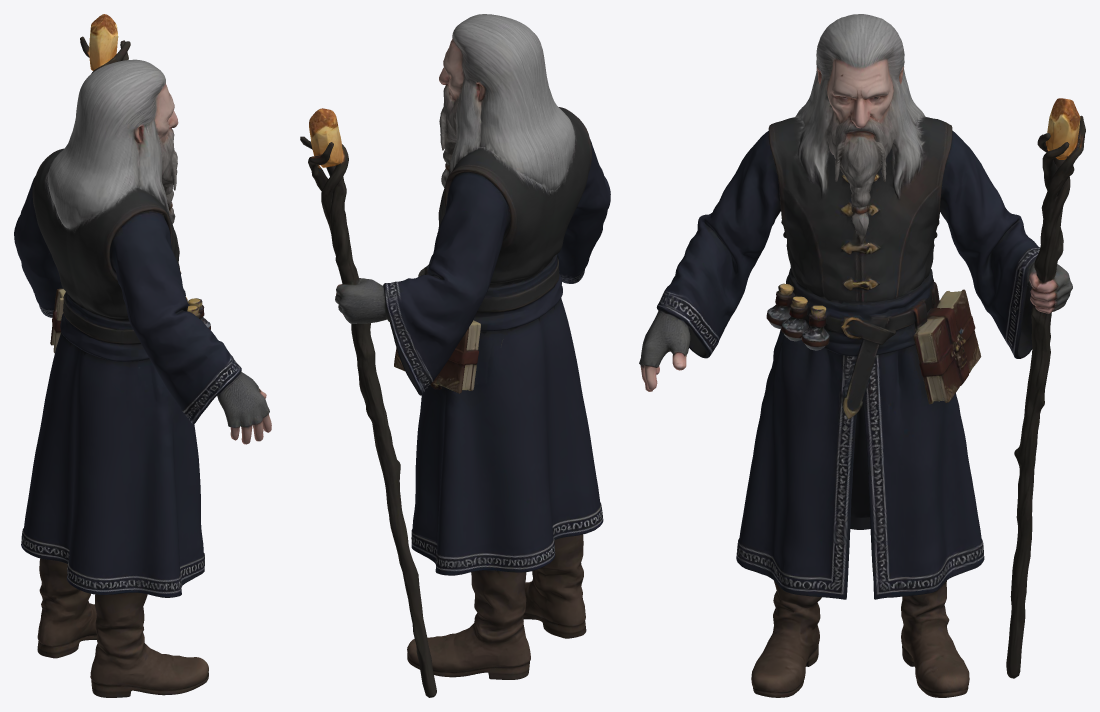
Rendered from sage-original.glb.
3 views of the same model, side by side, from view 1: azimuth 30°, elevation 25°; view 2: azimuth 150°, elevation 25°; view 3: azimuth 270°, elevation 25° (orthographic). The views are drawn at different scales.
Visible parts, largest first — view 1: tripo_node_5ba631ac-2268-4525-b961-1422cec51a06; view 2: tripo_node_5ba631ac-2268-4525-b961-1422cec51a06; view 3: tripo_node_5ba631ac-2268-4525-b961-1422cec51a06.
Part boxes in pixels (x1,y1,x2,y2): tripo_node_5ba631ac-2268-4525-b961-1422cec51a06: (14, 14, 271, 697); tripo_node_5ba631ac-2268-4525-b961-1422cec51a06: (300, 14, 610, 697); tripo_node_5ba631ac-2268-4525-b961-1422cec51a06: (639, 14, 1085, 697).
Bounding box in the file's own units: 0.2979 × 1 × 0.6115.
1 material, 1 textured.
